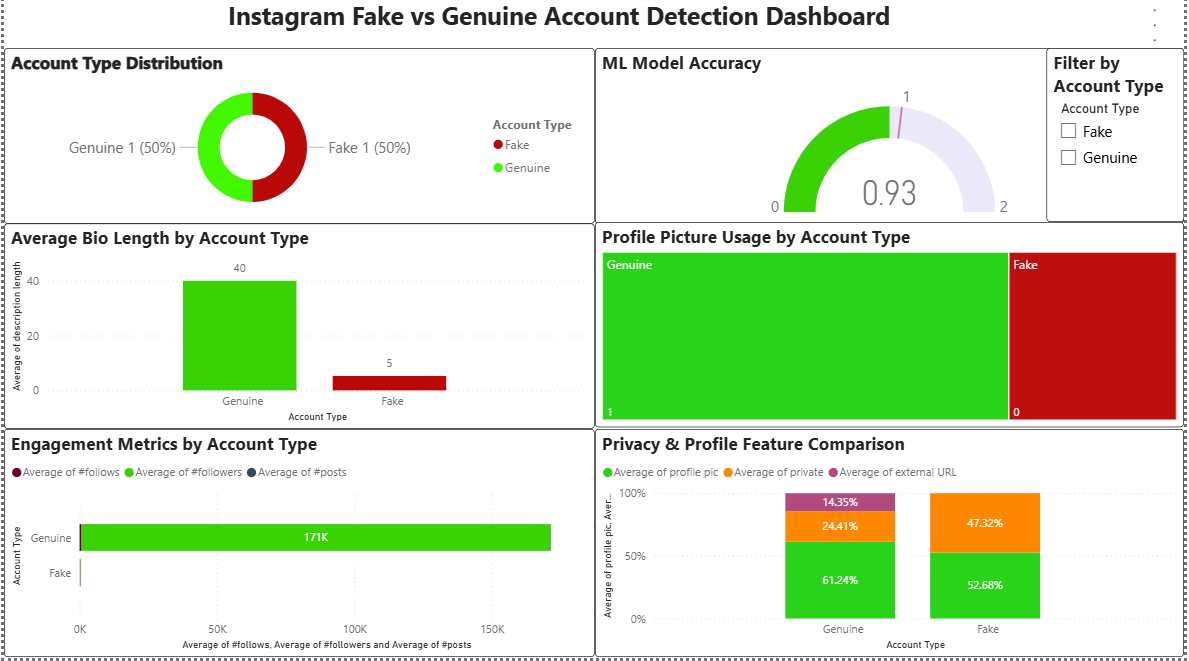

What the dashboard file says about the page in this screenshot:
{"tool":"powerbi","page":{"name":"Page 1","canvas":[1280,720],"ordinal":0},"visuals":[{"type":"textbox","box":[10,0,280,280],"z":0},{"type":"textbox","box":[9.4,0,1184.9,540.5],"z":1000},{"type":"donutChart","title":"Account Type Distribution","fields":{"Category":["tableau_summary.Account Type"],"Y":["CountNonNull(tableau_summary.profile pic)"]},"box":[0,58.6,640.6,190.9],"z":2000},{"type":"clusteredColumnChart","title":"Average Bio Length by Account Type","fields":{"Category":["tableau_summary.Account Type"],"Y":["Avg(tableau_summary.description length)"]},"box":[0,249.5,640.6,223],"z":3000},{"type":"barChart","title":"Engagement Metrics by Account Type","fields":{"Category":["tableau_summary.Account Type"],"Y":["Avg(tableau_summary.#follows)","Avg(tableau_summary.#followers)","Avg(tableau_summary.#posts)"]},"box":[0,472.4,640.6,247.6],"z":4000},{"type":"gauge","title":"ML Model Accuracy","fields":{"Y":["Avg(Accuracy.Value)"],"TargetValue":["Accuracy.TargetValue"]},"box":[640.6,58.6,638.7,190.9],"z":5000},{"type":"treemap","title":"Profile Picture Usage by Account Type","fields":{"Values":["Avg(tableau_summary.profile pic)"],"Group":["tableau_summary.Account Type"]},"box":[640.6,247.6,638.7,223],"z":6000},{"type":"slicer","title":"Filter by Account Type","fields":{"Values":["tableau_summary.Account Type"]},"box":[1130.1,58.6,149.3,189],"z":7000},{"type":"hundredPercentStackedColumnChart","title":"Privacy & Profile Feature Comparison","fields":{"Category":["tableau_summary.Account Type"],"Y":["Avg(tableau_summary.profile pic)","Avg(tableau_summary.private)","Avg(tableau_summary.external URL)"]},"box":[640.6,472.4,638.7,247.6],"z":7001}]}

Visuals, with their boxes in screenshot pixels (x1, y1, x2, y2), scaled from the page's 1280x720 canvas onto the 1189x661 screenshot:
textbox: (left=9, top=0, right=269, bottom=257)
textbox: (left=9, top=0, right=1109, bottom=496)
"Account Type Distribution" donutChart: (left=0, top=54, right=595, bottom=229)
"Average Bio Length by Account Type" clusteredColumnChart: (left=0, top=229, right=595, bottom=434)
"Engagement Metrics by Account Type" barChart: (left=0, top=434, right=595, bottom=660)
"ML Model Accuracy" gauge: (left=595, top=54, right=1188, bottom=229)
"Profile Picture Usage by Account Type" treemap: (left=595, top=227, right=1188, bottom=432)
"Filter by Account Type" slicer: (left=1050, top=54, right=1188, bottom=227)
"Privacy & Profile Feature Comparison" hundredPercentStackedColumnChart: (left=595, top=434, right=1188, bottom=660)
